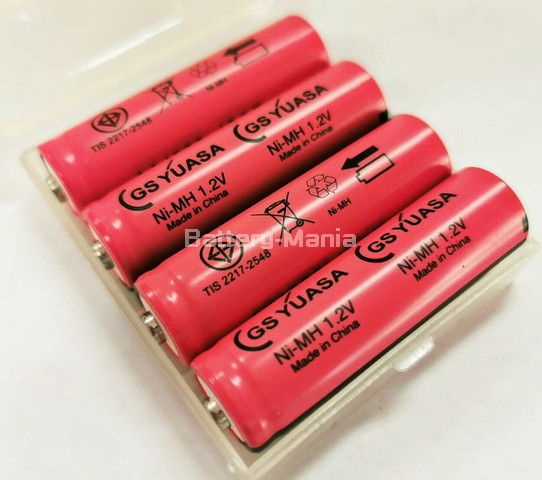Battery: (186, 163, 532, 455)
